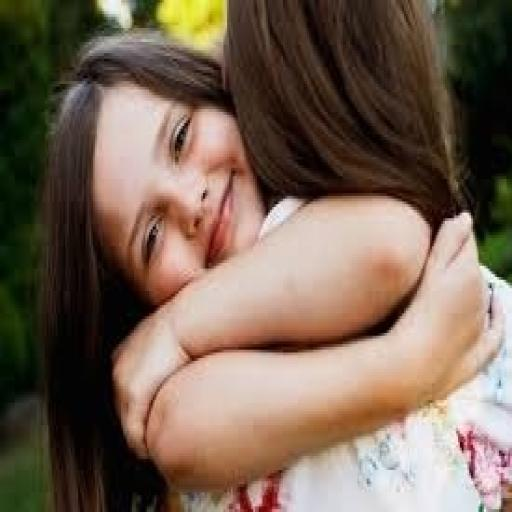hugging: (36, 22, 506, 510)
